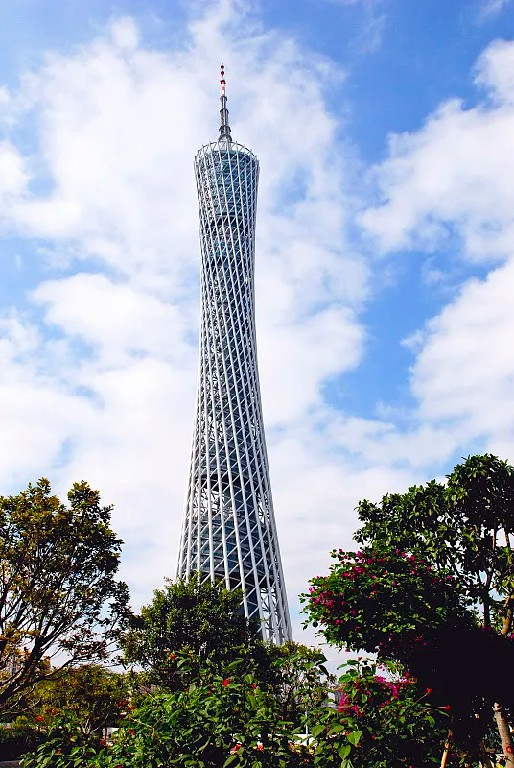Canton: (176, 57, 299, 673)
